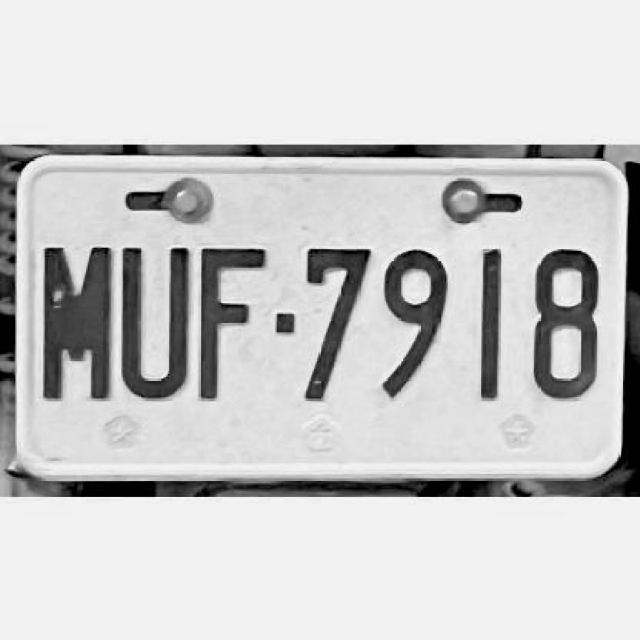-: (272, 308, 294, 335)
1: (476, 243, 502, 405)
7: (301, 242, 374, 403)
8: (529, 242, 600, 402)
9: (377, 246, 451, 397)
F: (197, 243, 269, 397)
M: (41, 245, 116, 406)
U: (115, 242, 191, 402)
